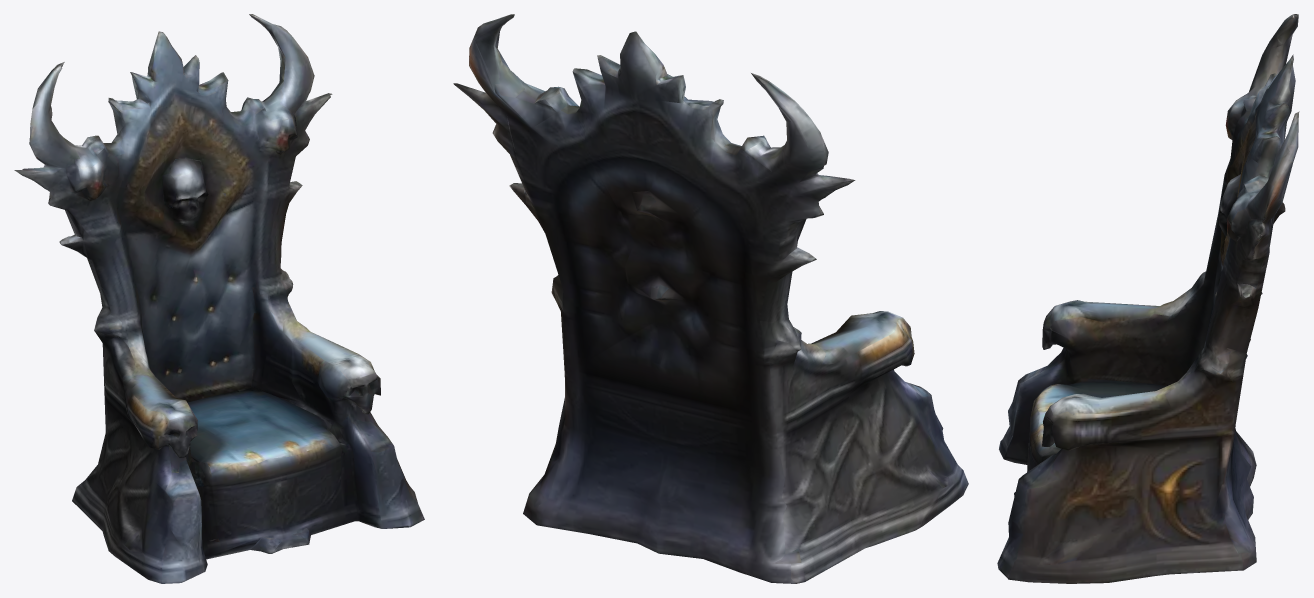
3 views of the same model, side by side, from view 1: azimuth 30°, elevation 25°; view 2: azimuth 150°, elevation 25°; view 3: azimuth 270°, elevation 25° (orthographic). The views are drawn at different scales.
Parts seen in each view (by area): view 1: Evil throne; view 2: Evil throne; view 3: Evil throne.
Boxes of the visible parts, x1,y1,x2,y2 form: Evil throne: (14, 14, 424, 583); Evil throne: (453, 14, 968, 583); Evil throne: (997, 14, 1299, 583).
Bounding box in the file's own units: 1.56 × 2 × 1.2.
1 material, 1 textured.
